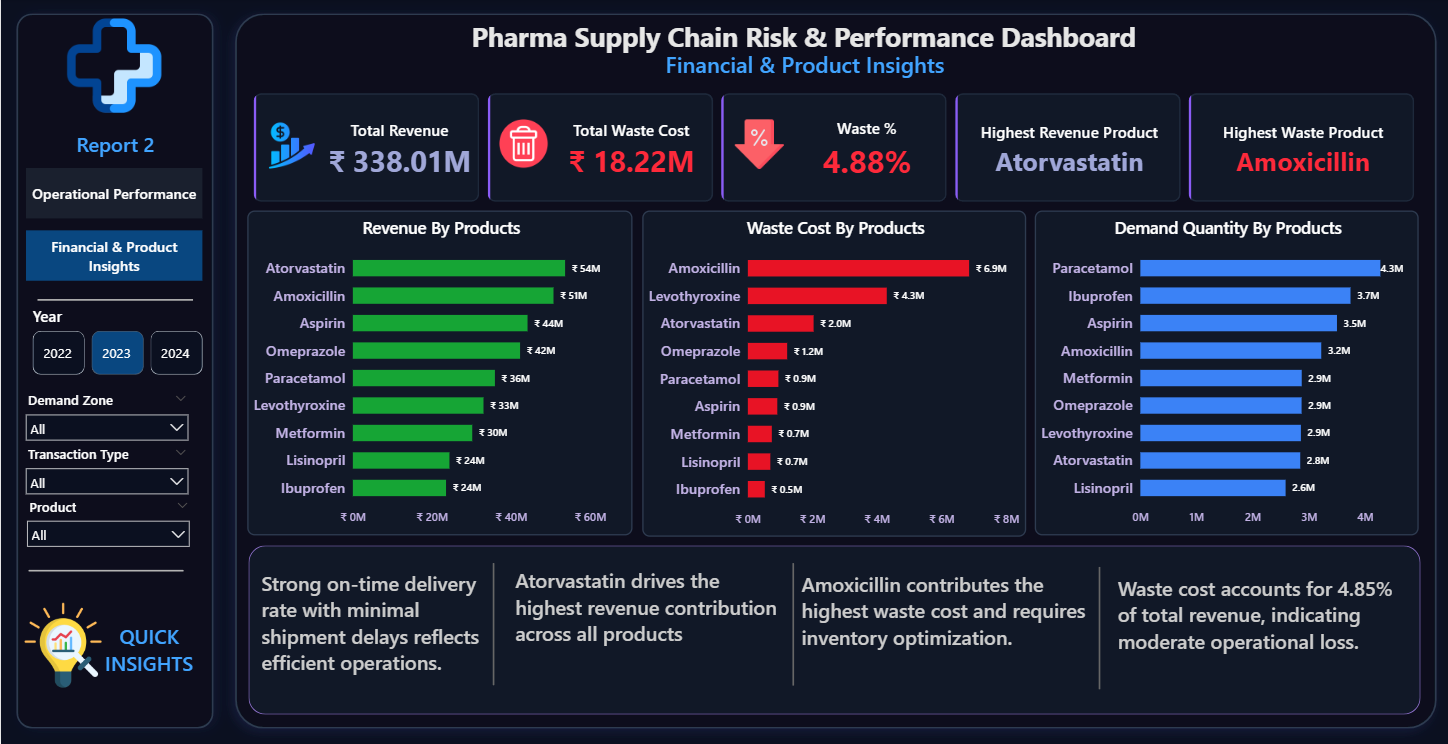

The page's visual inventory and layout, read from the dashboard file:
{"tool":"powerbi","page":{"name":"Financial & Product Insights","canvas":[1750,900],"ordinal":1},"visuals":[{"type":"shape","box":[263.3,0,1486.7,900],"z":0},{"type":"slicer","fields":{"Values":["pharma_dashboard_ready_data.demand_zone"]},"box":[19.9,470.3,216.3,65.6],"z":0,"group":"g3"},{"type":"shape","box":[0,0,275,900],"z":1000},{"type":"slicer","fields":{"Values":["pharma_dashboard_ready_data.transaction_type"]},"box":[19.4,535.1,216.3,80],"z":1000,"group":"g3"},{"type":"textbox","box":[499.6,20.2,938.6,62.4],"z":2000},{"type":"slicer","fields":{"Values":["pharma_dashboard_ready_data.product_name"]},"box":[20.4,597.8,216.7,80.4],"z":2000,"group":"g3"},{"type":"cardVisual","fields":{"Data":["pharma_dashboard_ready_data.Total Revenue","pharma_dashboard_ready_data.Total Waste Cost","pharma_dashboard_ready_data.Waste %","pharma_dashboard_ready_data.Highest Revenue Product","pharma_dashboard_ready_data.Highest Waste Product"]},"box":[288,97.4,1438.3,165],"z":3000},{"type":"pageNavigator","box":[30.4,205.4,213,137],"z":4000},{"type":"clusteredBarChart","title":"Revenue By Products","fields":{"Category":["pharma_dashboard_ready_data.product_name"],"Y":["pharma_dashboard_ready_data.Total Revenue"]},"box":[297.5,257.1,465,391.7],"z":4000,"group":"g2"},{"type":"image","box":[62.8,19,146.5,123.6],"z":5000},{"type":"clusteredBarChart","title":"Waste Cost By Products","fields":{"Category":["pharma_dashboard_ready_data.product_name"],"Y":["pharma_dashboard_ready_data.Total Waste Cost"]},"box":[773.7,256.9,463.3,393.3],"z":5000,"group":"g2"},{"type":"textbox","box":[68.5,156,140.8,49.5],"z":6000},{"type":"clusteredBarChart","title":"Demand Quantity By Products","fields":{"Category":["pharma_dashboard_ready_data.product_name"],"Y":["Sum(pharma_dashboard_ready_data.quantity)"]},"box":[1247.7,257.3,463.3,391.7],"z":6000,"group":"g2"},{"type":"group","id":"g1","title":"Group 2","box":[19.4,367.1,232,311.1],"z":7000},{"type":"textbox","box":[501.4,56.9,938.6,51.4],"z":8000},{"type":"shape","box":[43.8,342.4,188.3,43.8],"z":9000},{"type":"advancedSlicerVisual","title":"Year","fields":{"Values":["pharma_dashboard_ready_data.year"]},"box":[33.6,367.1,217.8,93.8],"z":9000,"group":"g1"},{"type":"group","id":"g2","title":"Group 3","box":[297.5,256.9,1413.6,393.3],"z":10000},{"type":"shape","box":[298,660,1414,204],"z":11000},{"type":"group","id":"g3","title":"Group 1","box":[19.4,470.3,217.7,207.9],"z":12000,"group":"g1"},{"type":"shape","box":[861.6,682.2,186.4,148.4],"z":12000,"group":"g4"},{"type":"textbox","box":[95.1,749.5,167.4,102.7],"z":12000},{"type":"shape","box":[500.7,681.3,187.1,147.7],"z":13000},{"type":"textbox","box":[615,681.7,330,116.6],"z":13000,"group":"g4"},{"type":"textbox","box":[959.7,686.1,369.4,134.6],"z":14000,"group":"g4"},{"type":"image","box":[24.6,720.7,101.8,119.8],"z":14000},{"type":"shape","box":[32.8,669.8,187.1,42.7],"z":15000},{"type":"textbox","box":[1342.3,690.2,384.1,141.2],"z":15000,"group":"g4"},{"type":"textbox","box":[308.6,684.6,307,141.2],"z":16000},{"type":"shape","box":[1232.5,686,186.4,148.4],"z":16000,"group":"g4"},{"type":"group","id":"g4","title":"Group 4","box":[615,681.7,1113.3,151.7],"z":17000}]}

Visuals, with their boxes in screenshot pixels (x1, y1, x2, y2), scaled from the page's 1750x900 canvas onto the 1448x744 screenshot:
shape: BBox(218, 0, 1447, 743)
slicer - pharma_dashboard_ready_data.demand_zone: BBox(16, 389, 195, 443)
shape: BBox(0, 0, 228, 743)
slicer - pharma_dashboard_ready_data.transaction_type: BBox(16, 442, 195, 508)
textbox: BBox(413, 17, 1190, 68)
slicer - pharma_dashboard_ready_data.product_name: BBox(17, 494, 196, 561)
cardVisual - pharma_dashboard_ready_data.Total Revenue x pharma_dashboard_ready_data.Total Waste Cost: BBox(238, 81, 1428, 217)
pageNavigator: BBox(25, 170, 201, 283)
"Revenue By Products" clusteredBarChart: BBox(246, 213, 631, 536)
image: BBox(52, 16, 173, 118)
"Waste Cost By Products" clusteredBarChart: BBox(640, 212, 1024, 537)
textbox: BBox(57, 129, 173, 170)
"Demand Quantity By Products" clusteredBarChart: BBox(1032, 213, 1416, 537)
"Group 2" group: BBox(16, 303, 208, 561)
textbox: BBox(415, 47, 1191, 90)
shape: BBox(36, 283, 192, 319)
"Year" advancedSlicerVisual: BBox(28, 303, 208, 381)
"Group 3" group: BBox(246, 212, 1416, 537)
shape: BBox(247, 546, 1417, 714)
"Group 1" group: BBox(16, 389, 196, 561)
shape: BBox(713, 564, 867, 687)
textbox: BBox(79, 620, 217, 704)
shape: BBox(414, 563, 569, 685)
textbox: BBox(509, 564, 782, 660)
textbox: BBox(794, 567, 1100, 678)
image: BBox(20, 596, 105, 695)
shape: BBox(27, 554, 182, 589)
textbox: BBox(1111, 571, 1428, 687)
textbox: BBox(255, 566, 509, 683)
shape: BBox(1020, 567, 1174, 690)
"Group 4" group: BBox(509, 564, 1430, 689)
